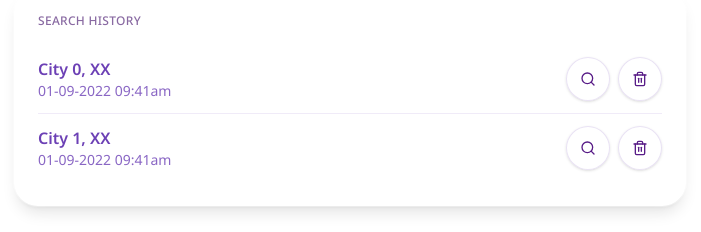
Test case: SearchHistory › renders correctly and still supports delete when prefers-reduced-motion is set
Expected: the number of list items is 2, x1=38 y1=45 x2=662 y2=114; x1=38 y1=114 x2=662 y2=182
Click the button named "Delete City 0, XX from history" at (640, 79), box x1=618 y1=57 x2=662 y2=101
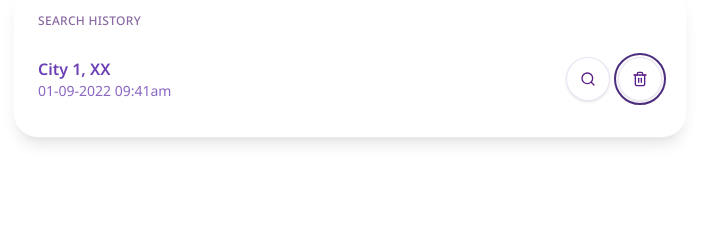
Result: the number of list items is 1 at x1=38 y1=45 x2=662 y2=113
Result: the text "City 0, XX" is gone
